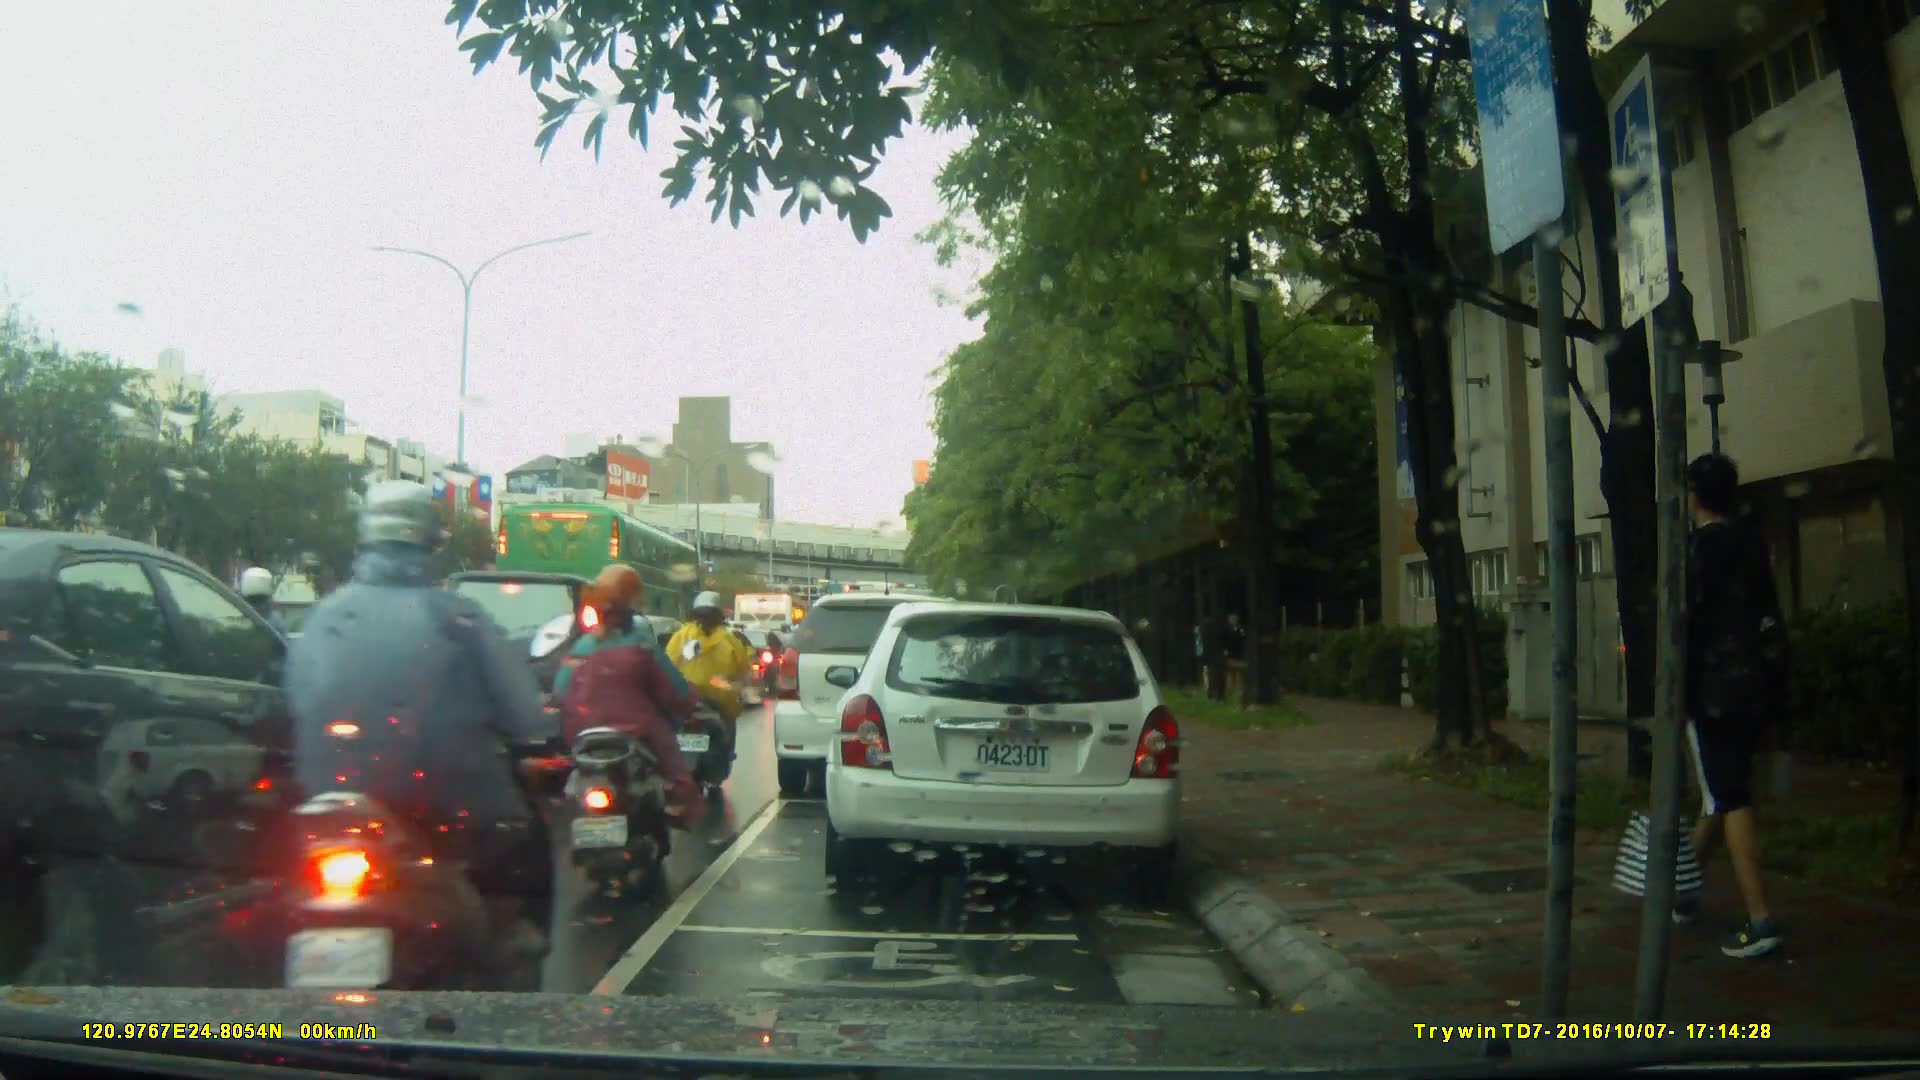pedestrian: (1612, 443, 1801, 969)
rider: (273, 477, 572, 1044), (553, 565, 682, 901), (218, 571, 328, 793), (667, 588, 757, 794)
vehicle: (7, 526, 408, 988), (831, 592, 1196, 897), (406, 567, 675, 795), (770, 592, 999, 800), (493, 499, 705, 658)
